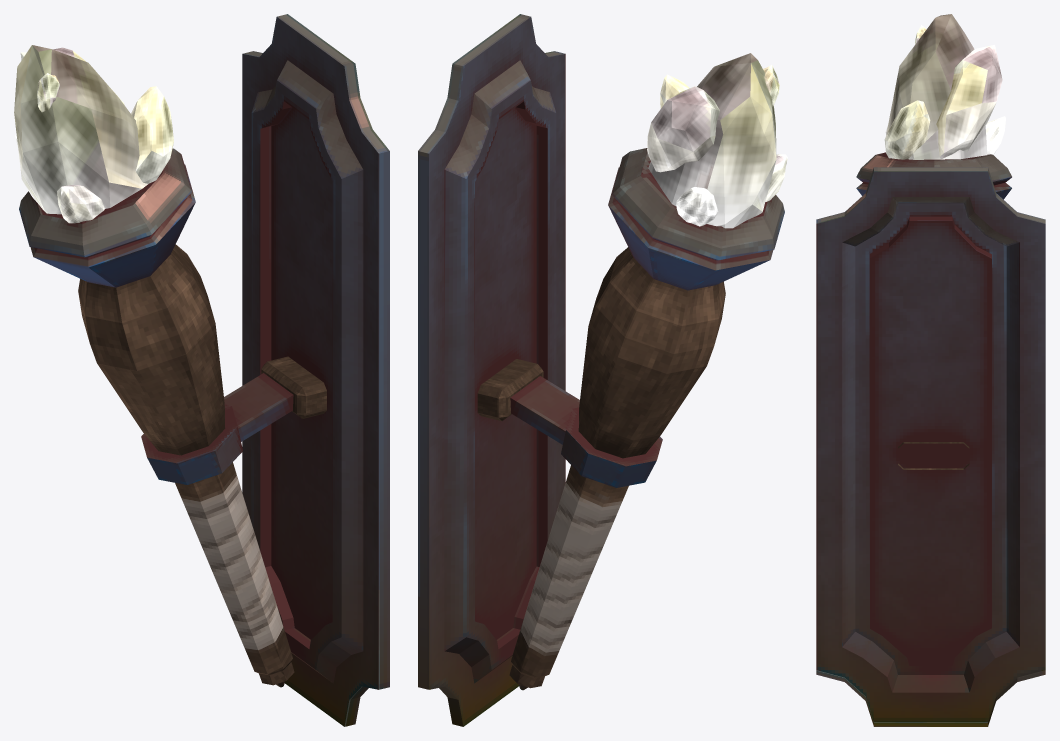
File: CrystalTorch.fbx
3 renders of one model, left to right at view 1: azimuth 30°, elevation 25°; view 2: azimuth 150°, elevation 25°; view 3: azimuth 270°, elevation 25°, orthographic. The views are drawn at different scales.
Visible parts, largest first — view 1: Cylinder; view 2: Cylinder; view 3: Cylinder.
Part boxes in pixels (x1,y1,x2,y2): Cylinder: (14, 14, 389, 726); Cylinder: (418, 14, 787, 726); Cylinder: (816, 14, 1045, 726).
Bounding box in the file's own units: 107 × 248 × 86.11.
